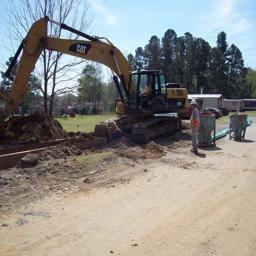hat: (189, 98, 196, 106)
vest: (189, 108, 201, 128)
